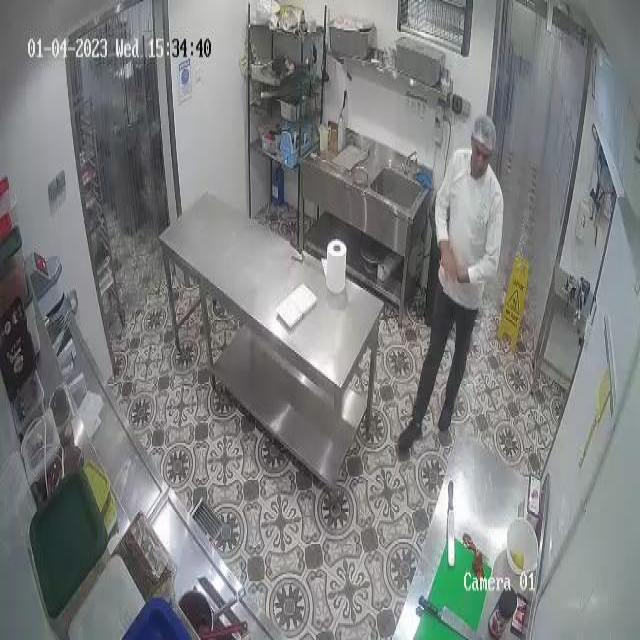hairnet: (472, 113, 494, 152)
